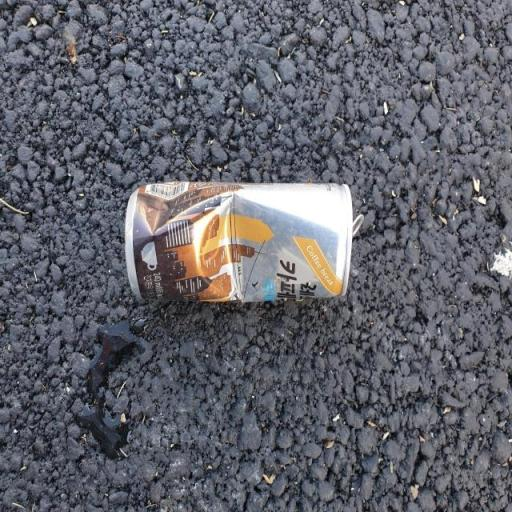metal: (116, 114, 370, 366)
